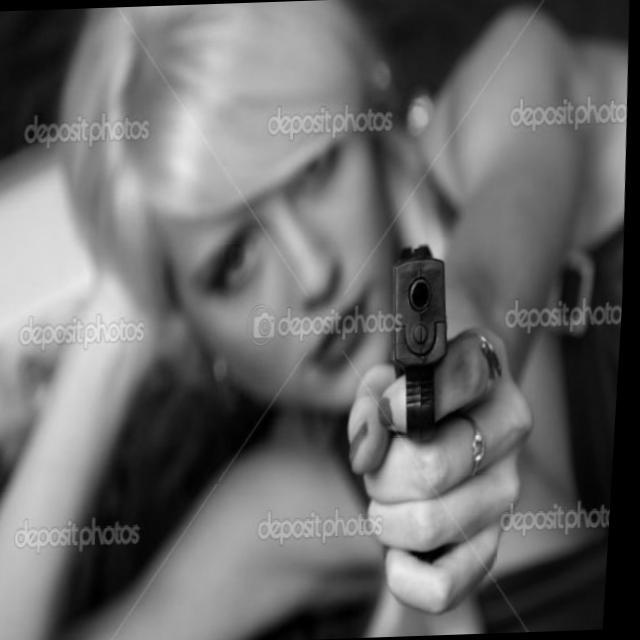weapon: (382, 240, 463, 444)
